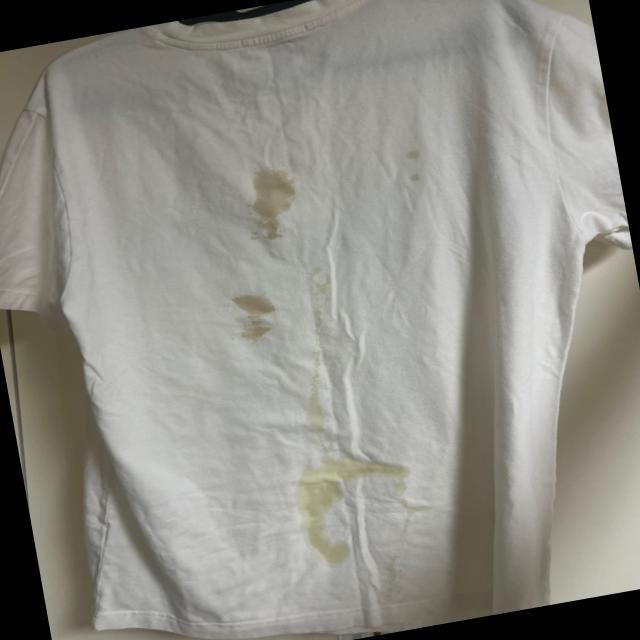stain: (289, 443, 416, 505), (247, 164, 301, 252), (300, 484, 356, 564), (228, 284, 282, 350), (302, 357, 338, 436), (294, 268, 334, 312), (396, 139, 426, 194)
